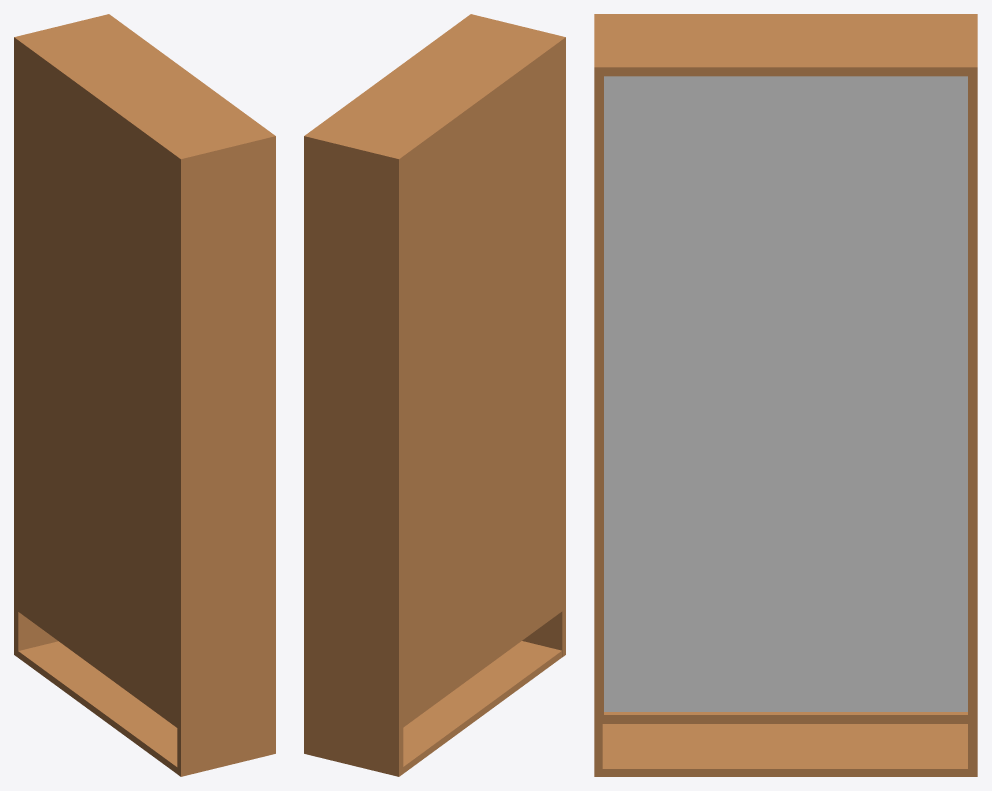
The model's file is mirror_cabinet.fbx.
The picture shows the model from 3 angles, left to right: view 1: azimuth 30°, elevation 25°; view 2: azimuth 150°, elevation 25°; view 3: azimuth 270°, elevation 25°; orthographic projection. The views are drawn at different scales.
Parts seen in each view (by area): view 1: Cube; view 2: Cube; view 3: Cube.
Part boxes in pixels (left/top/right/bottom): Cube: left=14, top=14, right=275, bottom=776; Cube: left=304, top=14, right=565, bottom=776; Cube: left=594, top=14, right=977, bottom=776.
Size of the model in its own units: 63.73 by 396 by 194.
